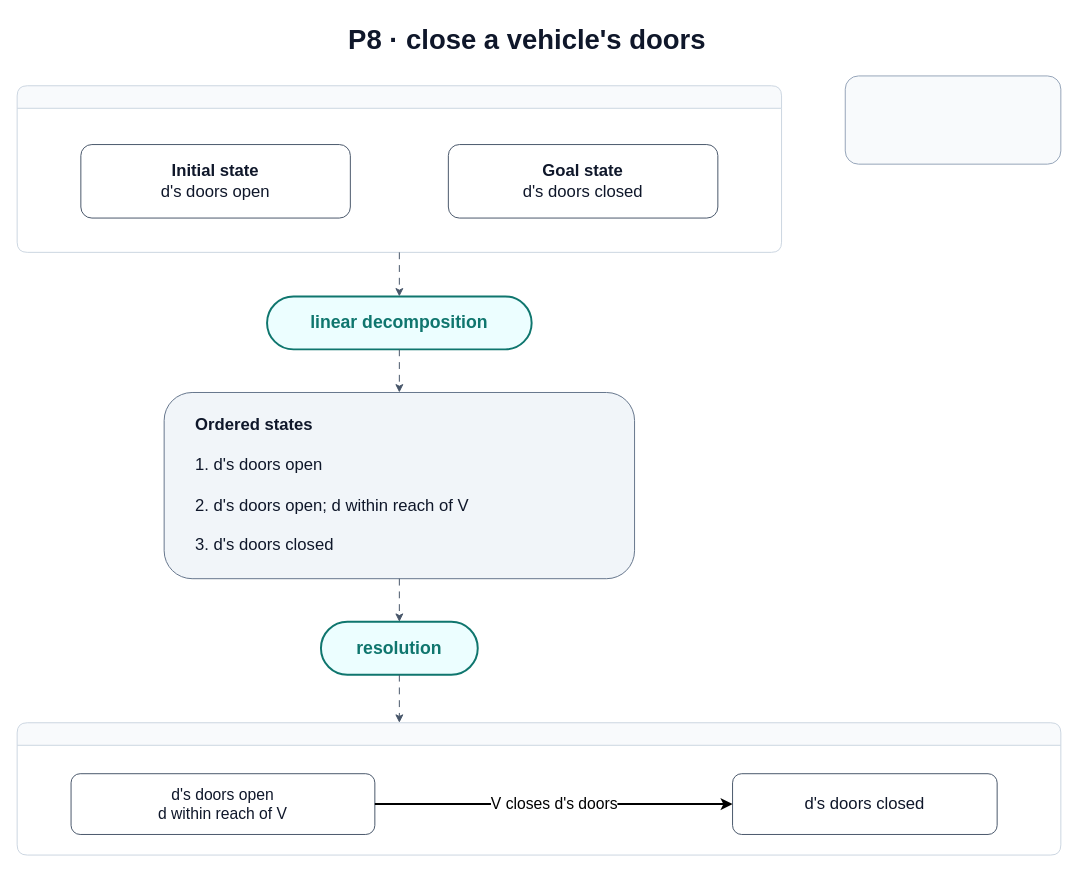
The diagram is 1078 pixels wide and 872 high, and some of its shapes have lost their labels. The box of each missing label's shape, as (x1, y1, x2, y2) in pixels:
Parameters V = mover d = vehicle: (844, 75, 1061, 164)
Problem definition: (16, 85, 782, 252)
Resolved wiring diagram: (16, 722, 1061, 855)
